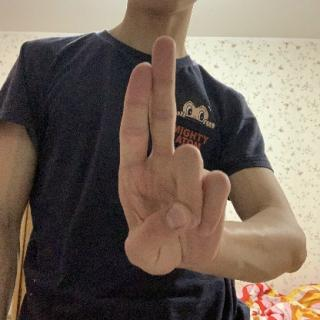TA: (117, 29, 230, 280)
